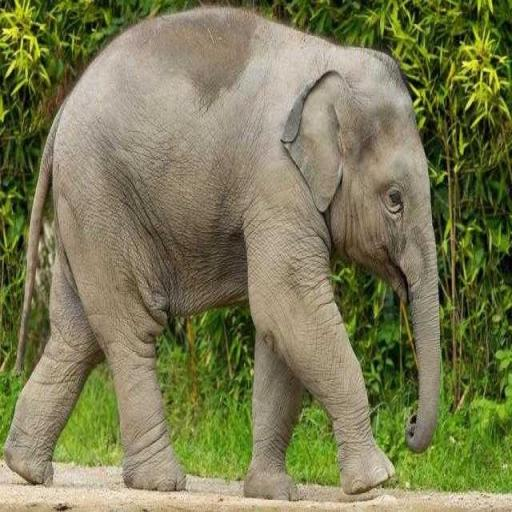Elephant: (3, 2, 442, 501)
